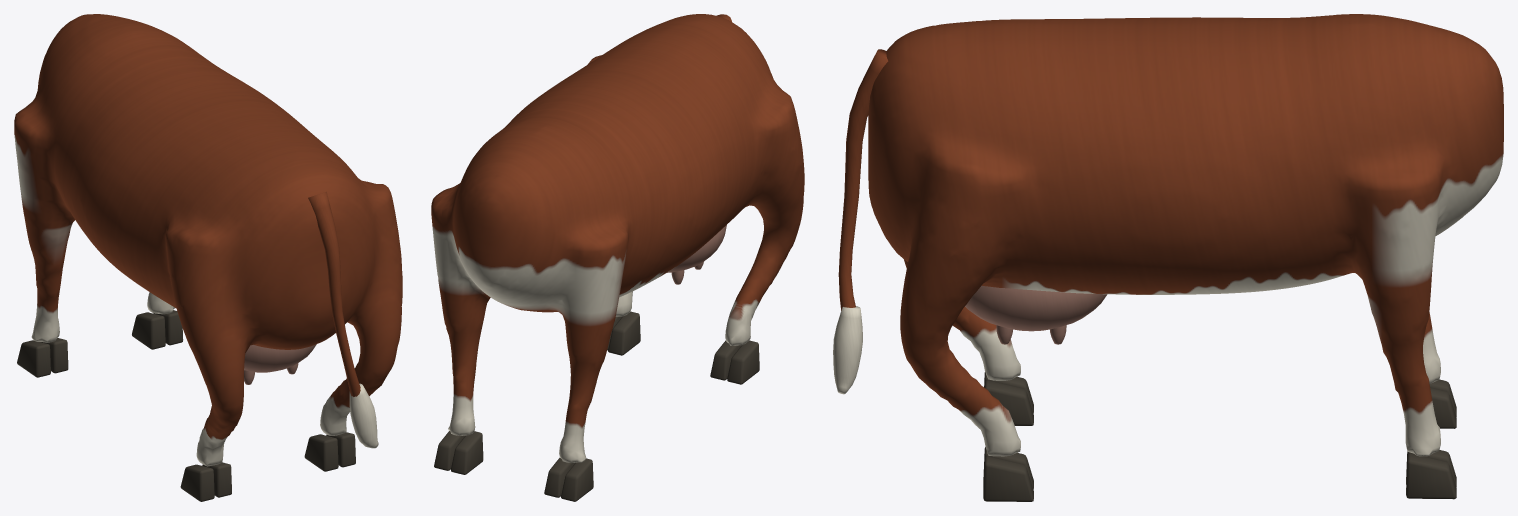
Rendered from SM_Cow_Alive_Body.glb.
3 renders of one model, left to right at view 1: azimuth 30°, elevation 25°; view 2: azimuth 150°, elevation 25°; view 3: azimuth 270°, elevation 25°, orthographic. The views are drawn at different scales.
Visible parts, largest first — view 1: SM_Cow_Alive_Body.001; view 2: SM_Cow_Alive_Body.001; view 3: SM_Cow_Alive_Body.001.
Boxes of the visible parts, x1,y1,x2,y2 form: SM_Cow_Alive_Body.001: (14, 14, 402, 501); SM_Cow_Alive_Body.001: (431, 14, 804, 501); SM_Cow_Alive_Body.001: (833, 14, 1503, 501).
Bounding box in the file's own units: 0.9532 × 1.43 × 2.02.
Materials: 5 (5 with a texture image).
